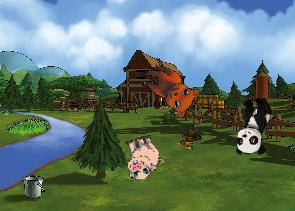bear: (134, 60, 203, 121)
panda: (233, 94, 273, 157)
pig: (117, 131, 166, 182)
